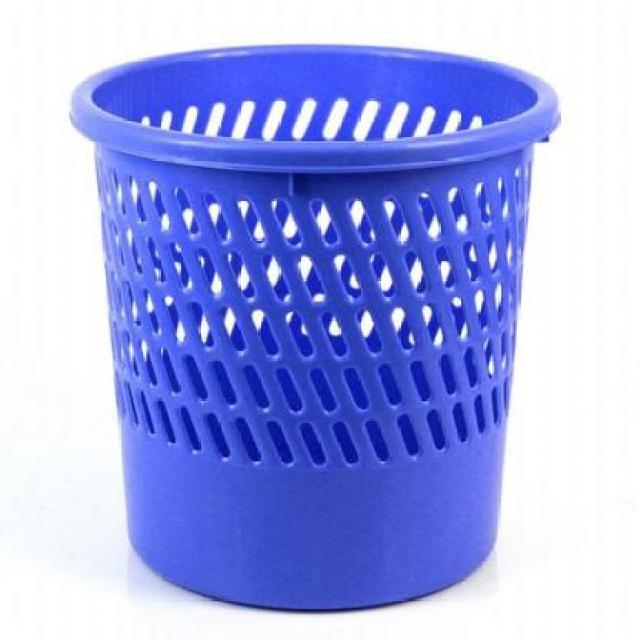dustbin: (63, 35, 566, 620)
